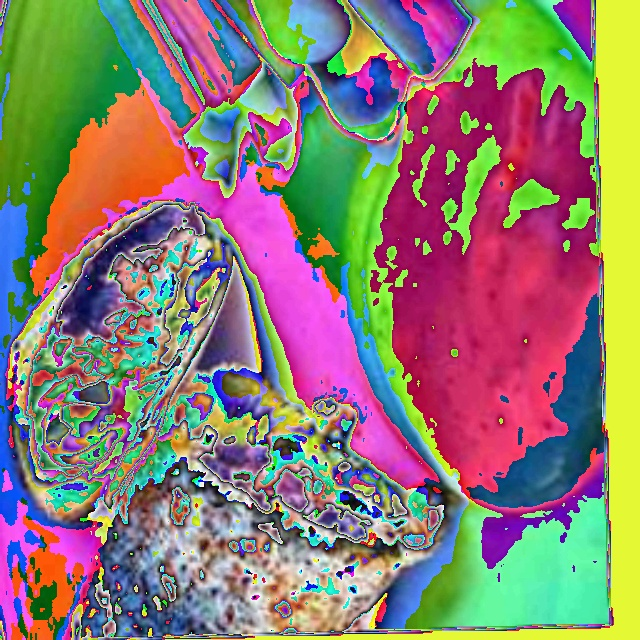background: (100, 0, 604, 513), (8, 195, 447, 637)
